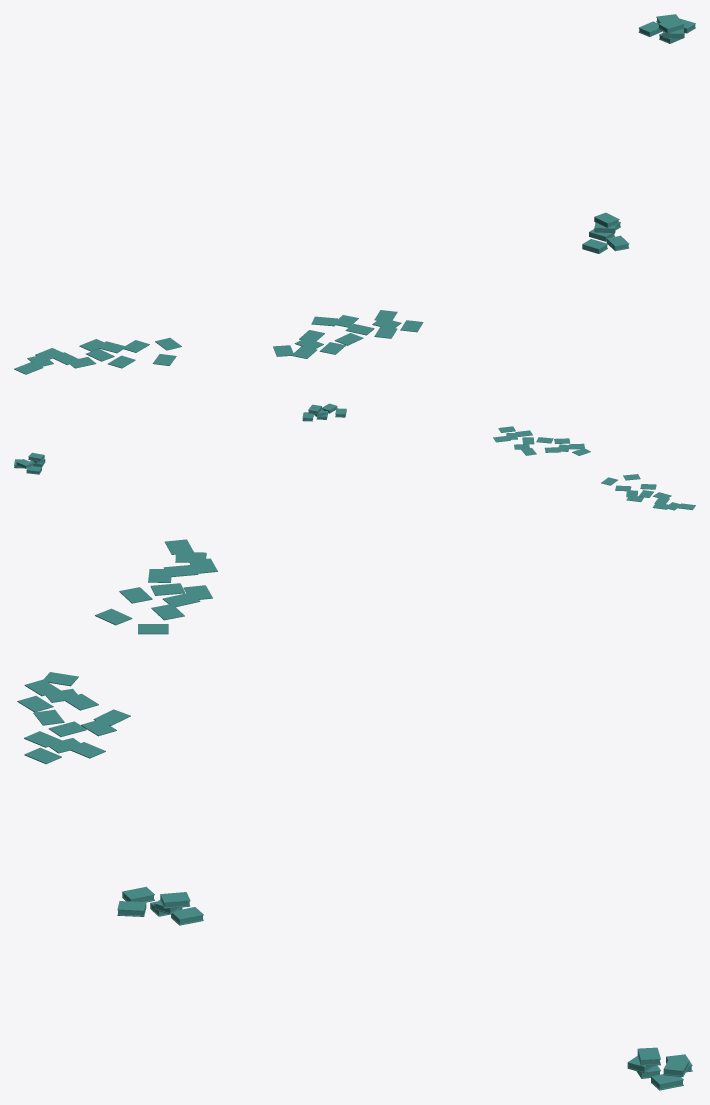
Rendered from FolhasELivros.fbx.
3 views of the same model, one above another, from view 1: azimuth 30°, elevation 25°; view 2: azimuth 150°, elevation 25°; view 3: azimuth 270°, elevation 25° (orthographic). The views are drawn at different scales.
Bounding box in the file's own units: 1202 × 19.57 × 628.
